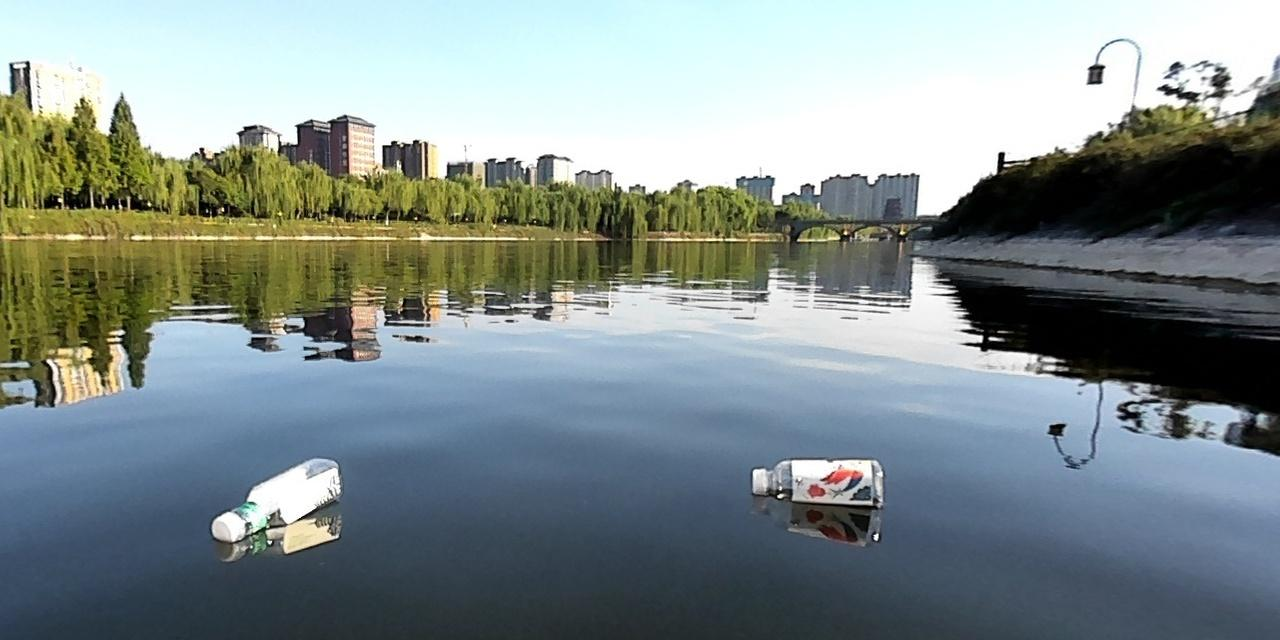bottle: (204, 455, 345, 545), (748, 455, 886, 511)
